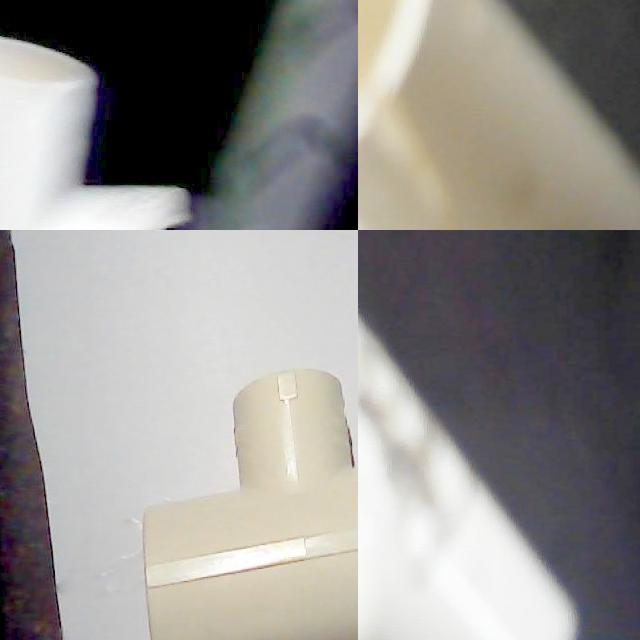Defective: (373, 45, 439, 230), (358, 392, 440, 530), (91, 178, 206, 230)
T Joint: (358, 313, 578, 640), (143, 370, 358, 640)
